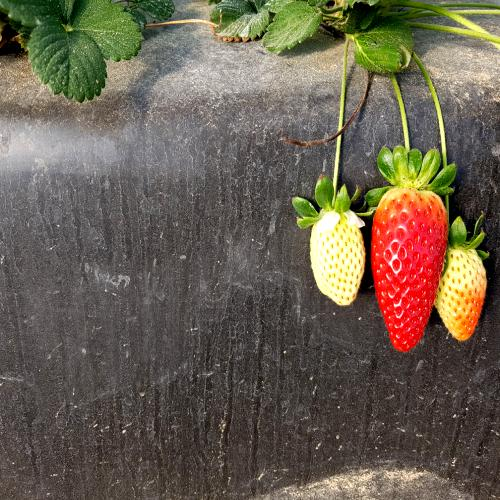ripe: (370, 179, 444, 353)
